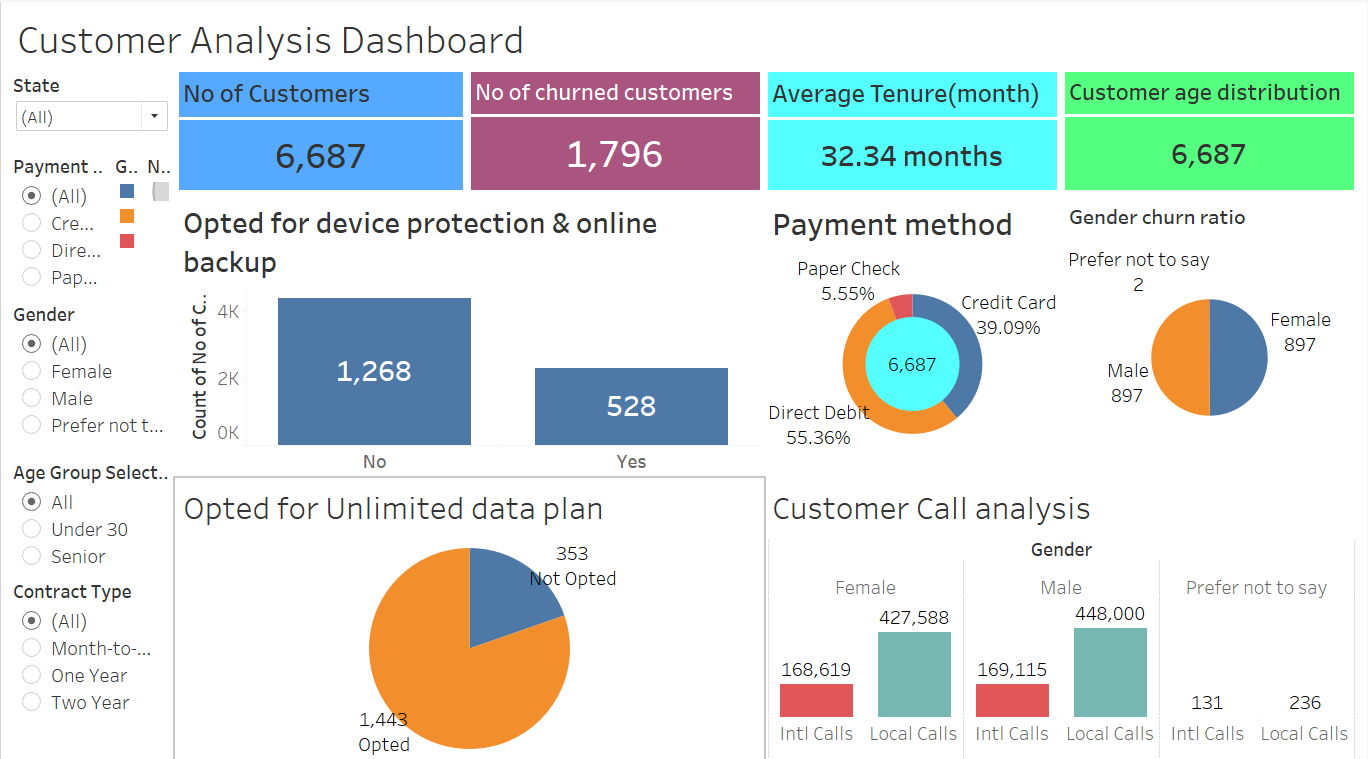

What the dashboard file says about the page in this screenshot:
{"tool":"tableau","page":{"name":"Customer Analysis Dashboard","canvas":[1366,768],"ordinal":1},"visuals":[{"type":"title","box":[8,8,1350,58]},{"type":"filter","title":"Customer Call analysis","param":"[federated.18pctyw106af9z19qcwwc0n5sz3b].[none:State:nk]","box":[8,66,166,81]},{"type":"worksheet","title":"No of Customers ","mark":"Automatic","box":[174,66,292,126]},{"type":"worksheet","title":"No of churned customers","mark":"Automatic","box":[465.5,66,297.5,126.4]},{"type":"worksheet","title":"Average Tenure(month)","mark":"Automatic","box":[763,66,297.5,126.4]},{"type":"worksheet","title":"Customer age distribution","mark":"Automatic","box":[1060.5,66,297.5,126.4]},{"type":"filter","title":"Payment method","param":"[federated.18pctyw106af9z19qcwwc0n5sz3b].[none:Payment Method:nk]","box":[8,147,102,147.9]},{"type":"legend","title":"Gender churn ratio","param":"[federated.18pctyw106af9z19qcwwc0n5sz3b].[none:Gender:nk]","box":[110,147,32,147.9]},{"type":"legend","title":"Gender churn ratio","param":"[federated.18pctyw106af9z19qcwwc0n5sz3b].[sum:Calculation_733242316367581184:qk]","box":[142,147,32,147.9]},{"type":"worksheet","title":"Opted for device protection & online backup","mark":"Automatic","rows":["Calculation_733242316367581184"],"cols":["Device Protection & Online Backup"],"box":[174,192.4,589,283.8]},{"type":"worksheet","title":"Payment method","mark":"Pie","rows":["Calculation_507217910727127049","Calculation_507217910727127049"],"box":[763,192.4,297.5,283.8]},{"type":"worksheet","title":"Gender churn ratio","mark":"Pie","box":[1060.5,192.4,297.5,283.8]},{"type":"filter","title":"Average Tenure(month)","param":"[federated.18pctyw106af9z19qcwwc0n5sz3b].[none:Gender:nk]","box":[8,295,166,158]},{"type":"parameter","param":"[Parameters].[Parameter 2]","box":[8,453,166,119]},{"type":"worksheet","title":"Opted for Unlimited data plan","mark":"Pie","box":[174,476.2,589,283.8]},{"type":"worksheet","title":"Customer Call analysis","mark":"Automatic","cols":["Gender"],"box":[763,476.2,595,283.8]},{"type":"filter","title":"Opted for device protection & online backup","param":"[federated.18pctyw106af9z19qcwwc0n5sz3b].[none:Contract Type:nk]","box":[8,571.7,166,148]}]}

Visuals, with their boxes in screenshot pixels (x1, y1, x2, y2), scaled from the page's 1366x768 canvas onto the 1368x759 screenshot:
title: 8/8/1360/65
"Customer Call analysis" filter: 8/65/174/145
"No of Customers " worksheet: 174/65/467/190
"No of churned customers" worksheet: 466/65/764/190
"Average Tenure(month)" worksheet: 764/65/1062/190
"Customer age distribution" worksheet: 1062/65/1360/190
"Payment method" filter: 8/145/110/291
"Gender churn ratio" legend: 110/145/142/291
"Gender churn ratio" legend: 142/145/174/291
"Opted for device protection & online backup" worksheet: 174/190/764/471
"Payment method" worksheet (Pie marks): 764/190/1062/471
"Gender churn ratio" worksheet (Pie marks): 1062/190/1360/471
"Average Tenure(month)" filter: 8/292/174/448
parameter: 8/448/174/565
"Opted for Unlimited data plan" worksheet (Pie marks): 174/471/764/751
"Customer Call analysis" worksheet: 764/471/1360/751
"Opted for device protection & online backup" filter: 8/565/174/711
